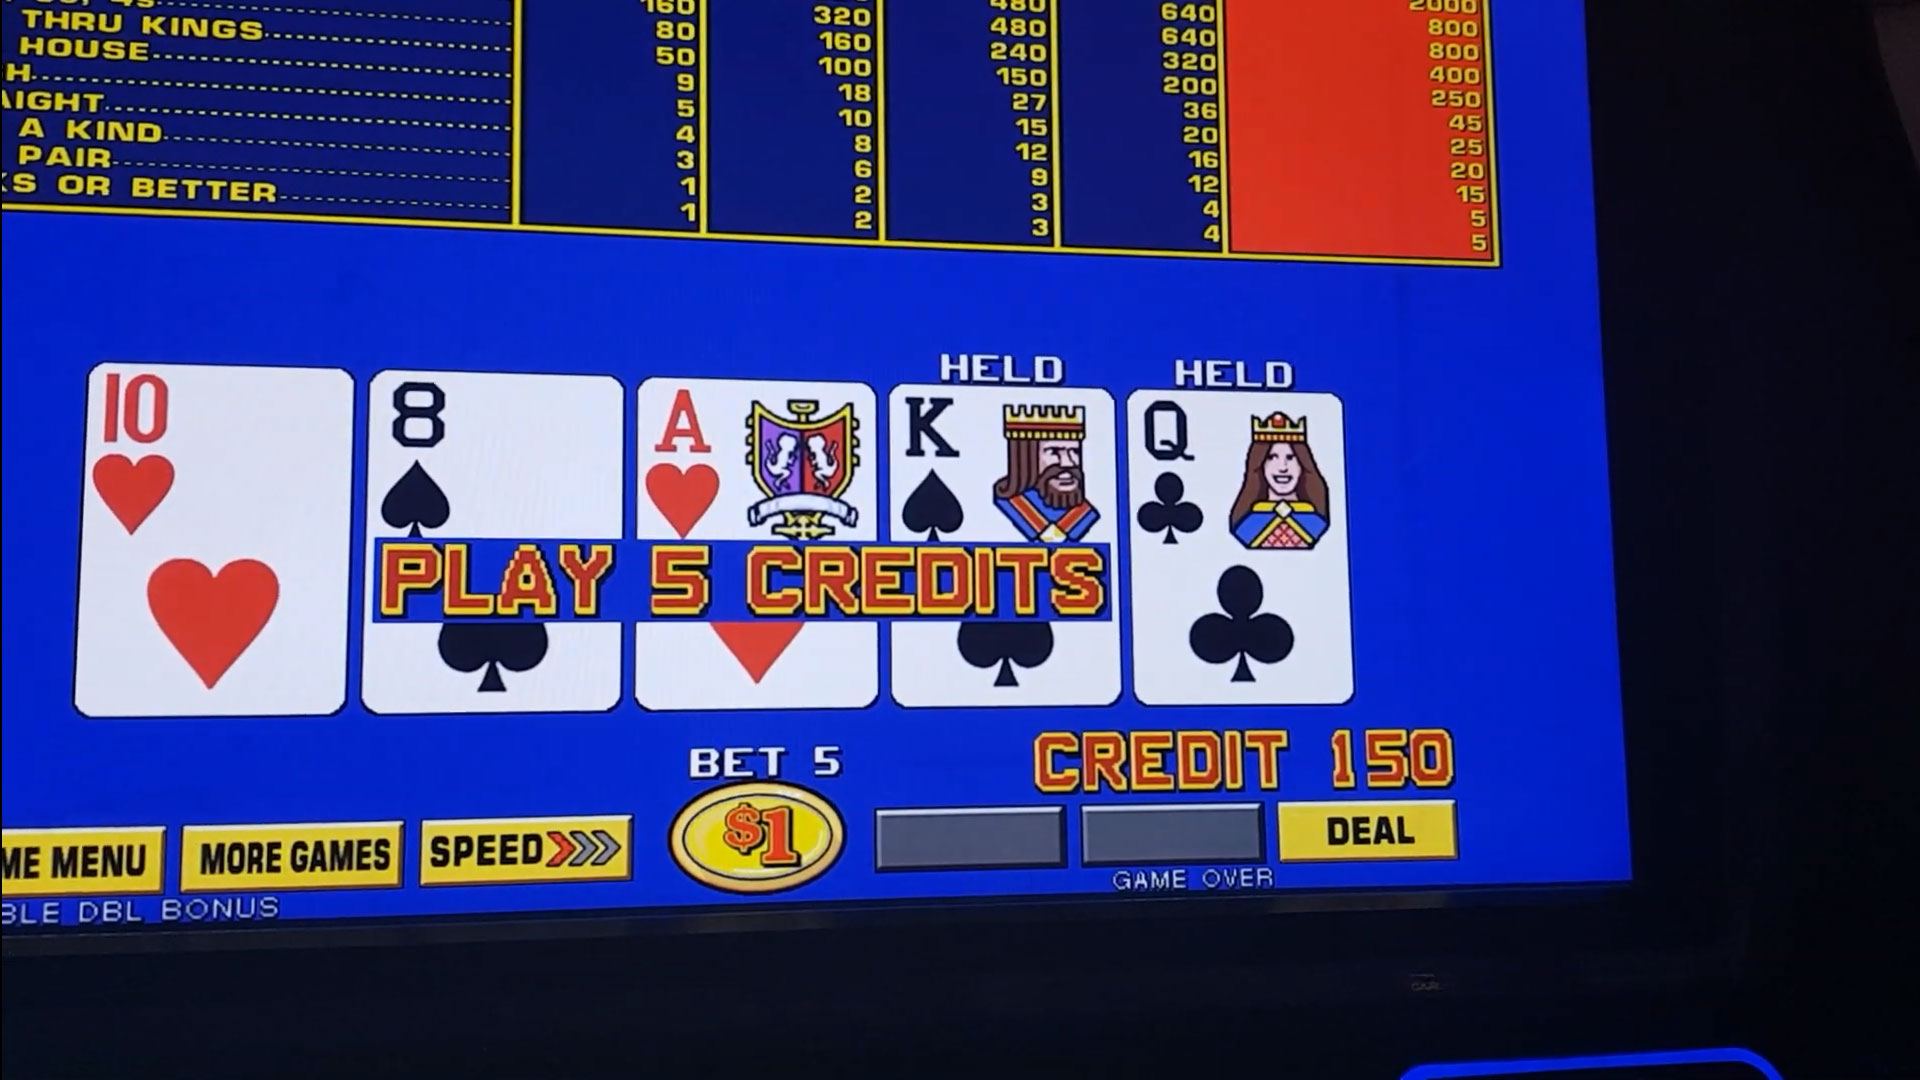CQ: (1135, 396, 1342, 554)
HA: (644, 388, 869, 535)
HT: (91, 377, 348, 543)
S8: (373, 378, 620, 534)
SK: (897, 392, 1112, 537)
